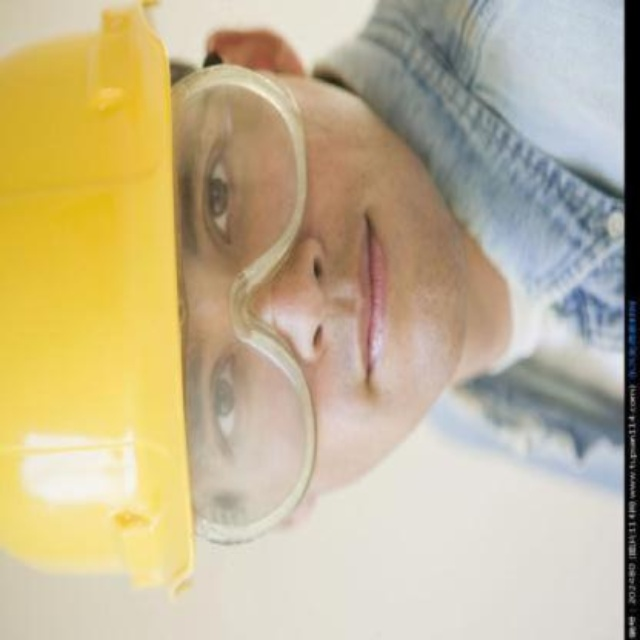glass: (176, 57, 325, 577)
yellow-helm: (2, 2, 206, 603)
